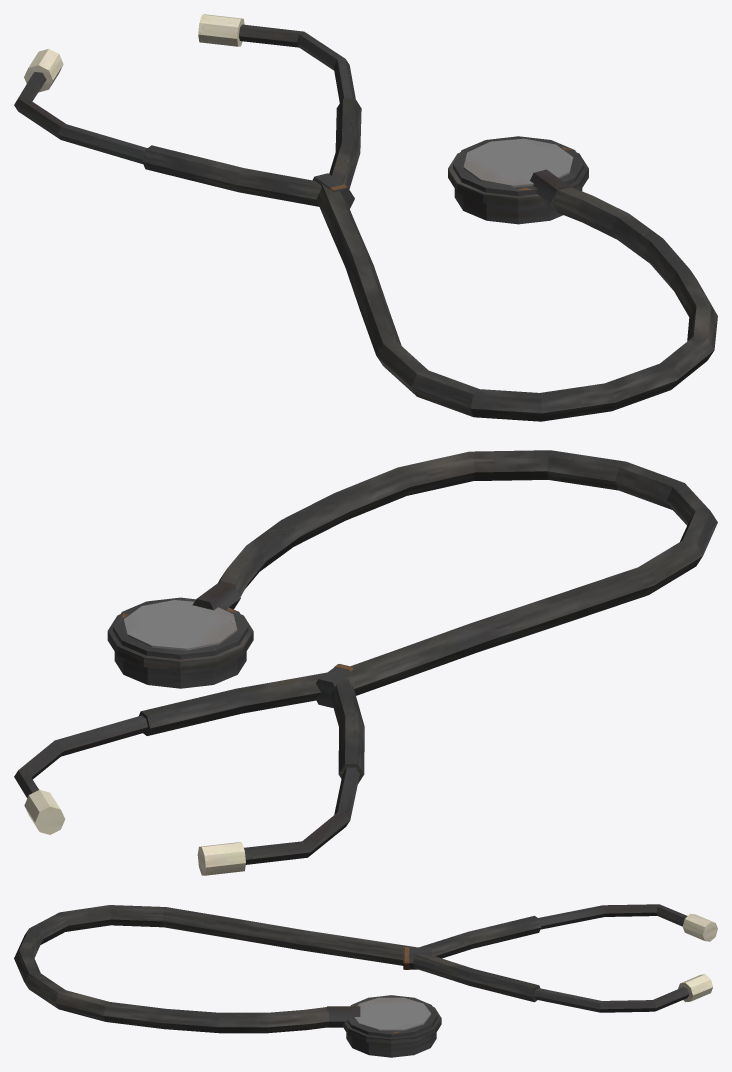
File: HE11_stethoscope.glb
3 renders of one model, top to bottom at view 1: azimuth 30°, elevation 25°; view 2: azimuth 150°, elevation 25°; view 3: azimuth 270°, elevation 25°, orthographic. The views are drawn at different scales.
Visible parts, largest first — view 1: Long_worn_rubber_hose; view 2: Long_worn_rubber_hose; view 3: Long_worn_rubber_hose.
Part boxes in pixels (<box>): Long_worn_rubber_hose: <box>14,14,717,421</box>; Long_worn_rubber_hose: <box>14,450,717,875</box>; Long_worn_rubber_hose: <box>14,904,717,1057</box>.
Bounding box in the file's own units: 0.1315 × 0.0147 × 0.3.
Materials: 5 (5 with a texture image).
